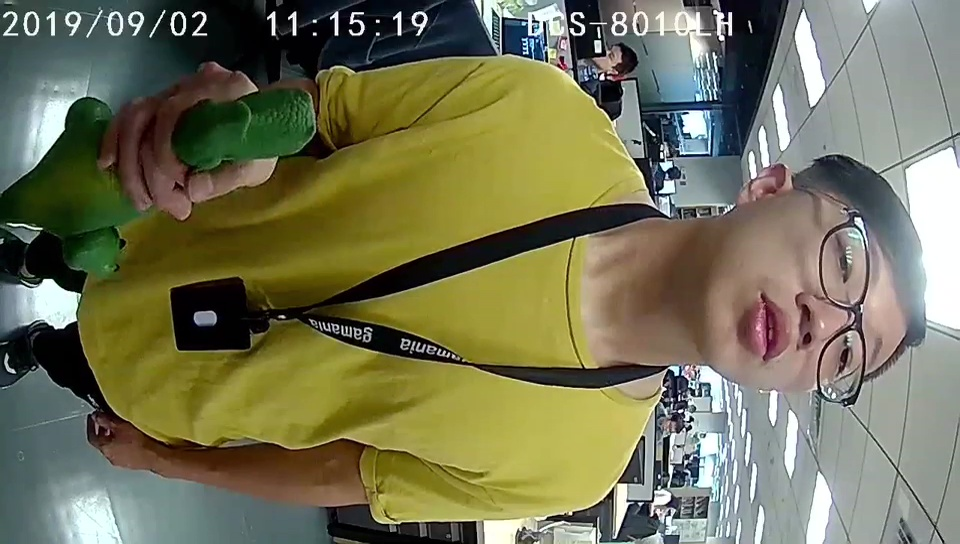rex: (56, 87, 315, 273)
